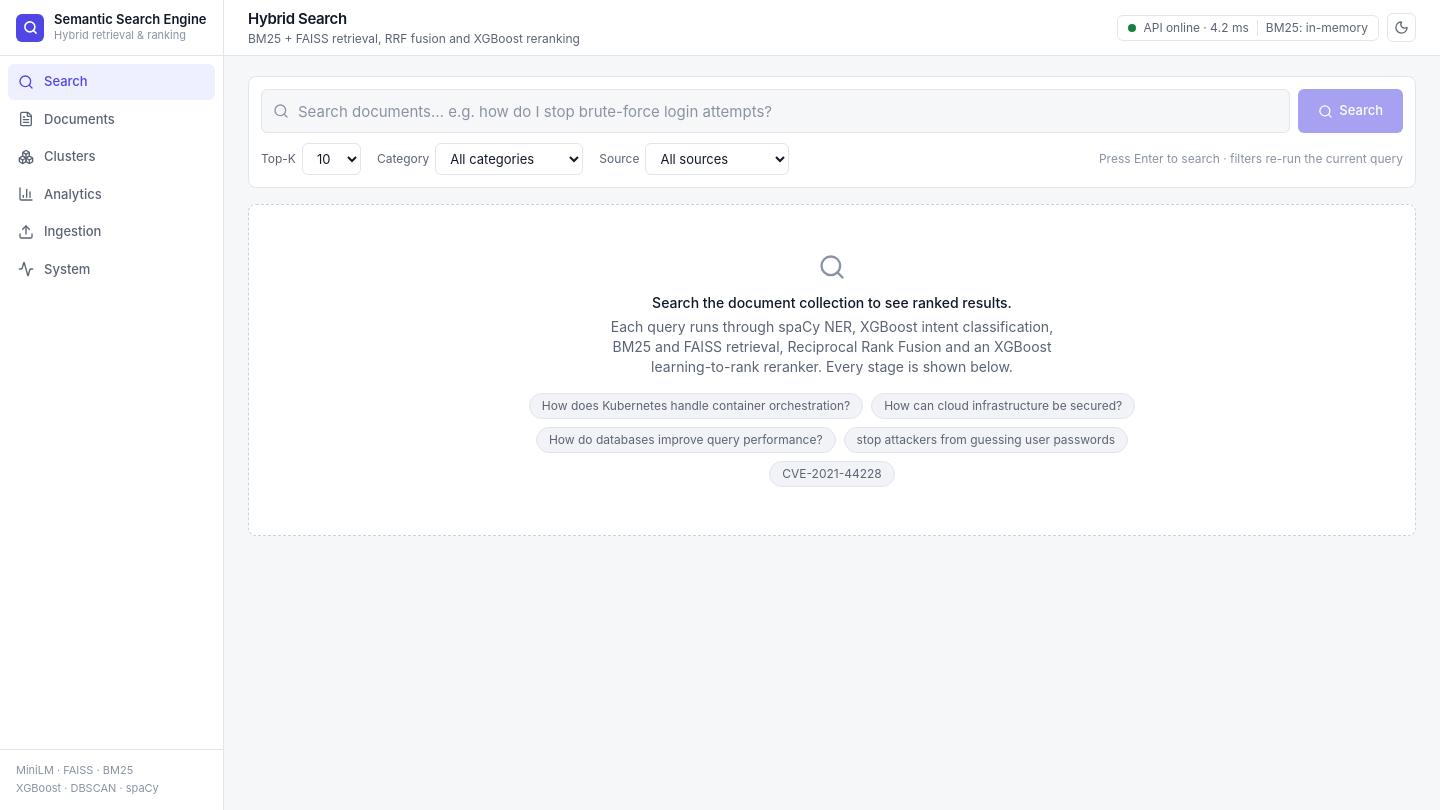
Test: Search page › switches between BM25, semantic and hybrid lists
The width and height of the screenshot is (1440, 810).
Type "security architecture for AWS" into the field named "Search query" at point(776, 111), box top-left (261, 89), bottom-right (1290, 133)
Then press Enter
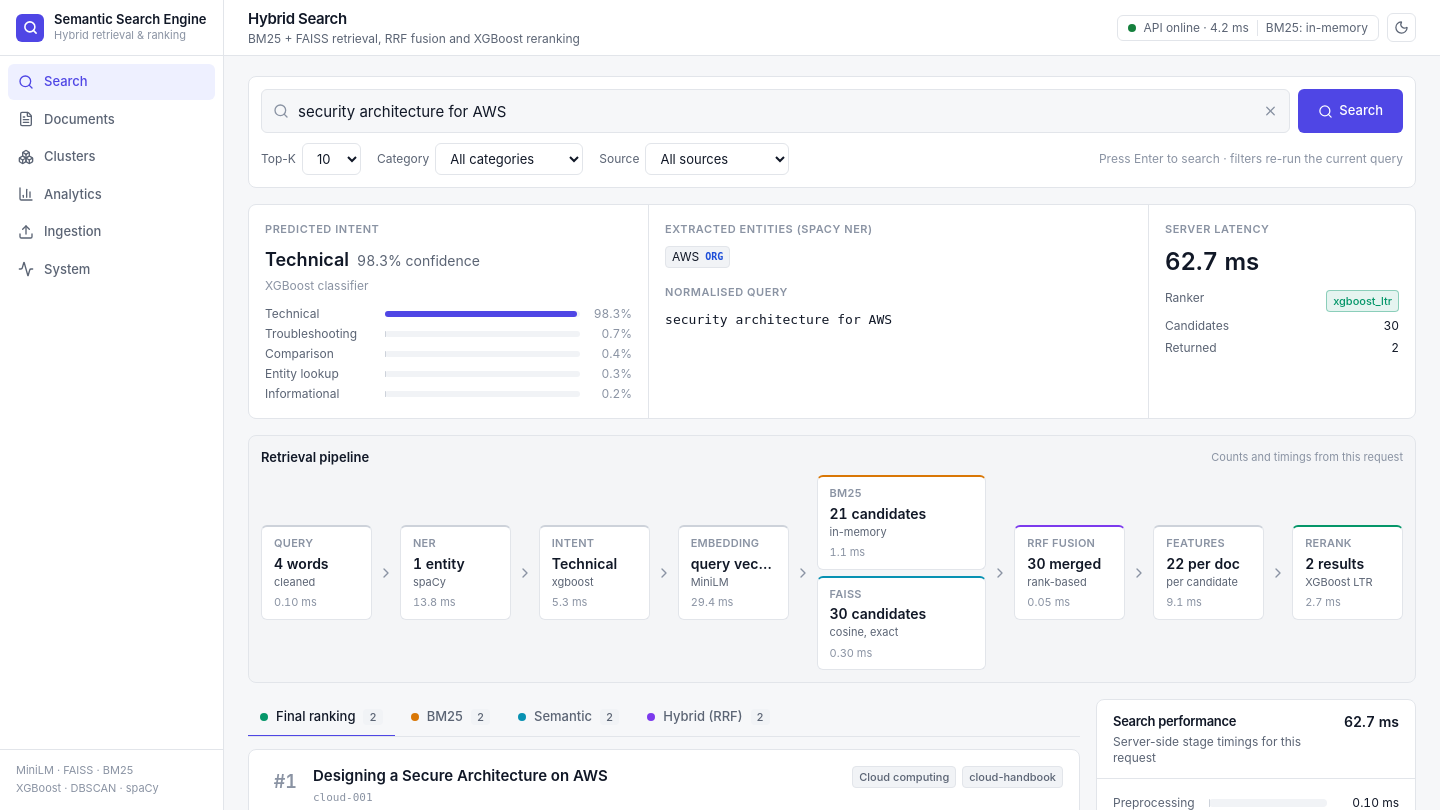
Click the tab "BM25 2" at point(450, 718), box top-left (399, 699), bottom-right (502, 736)
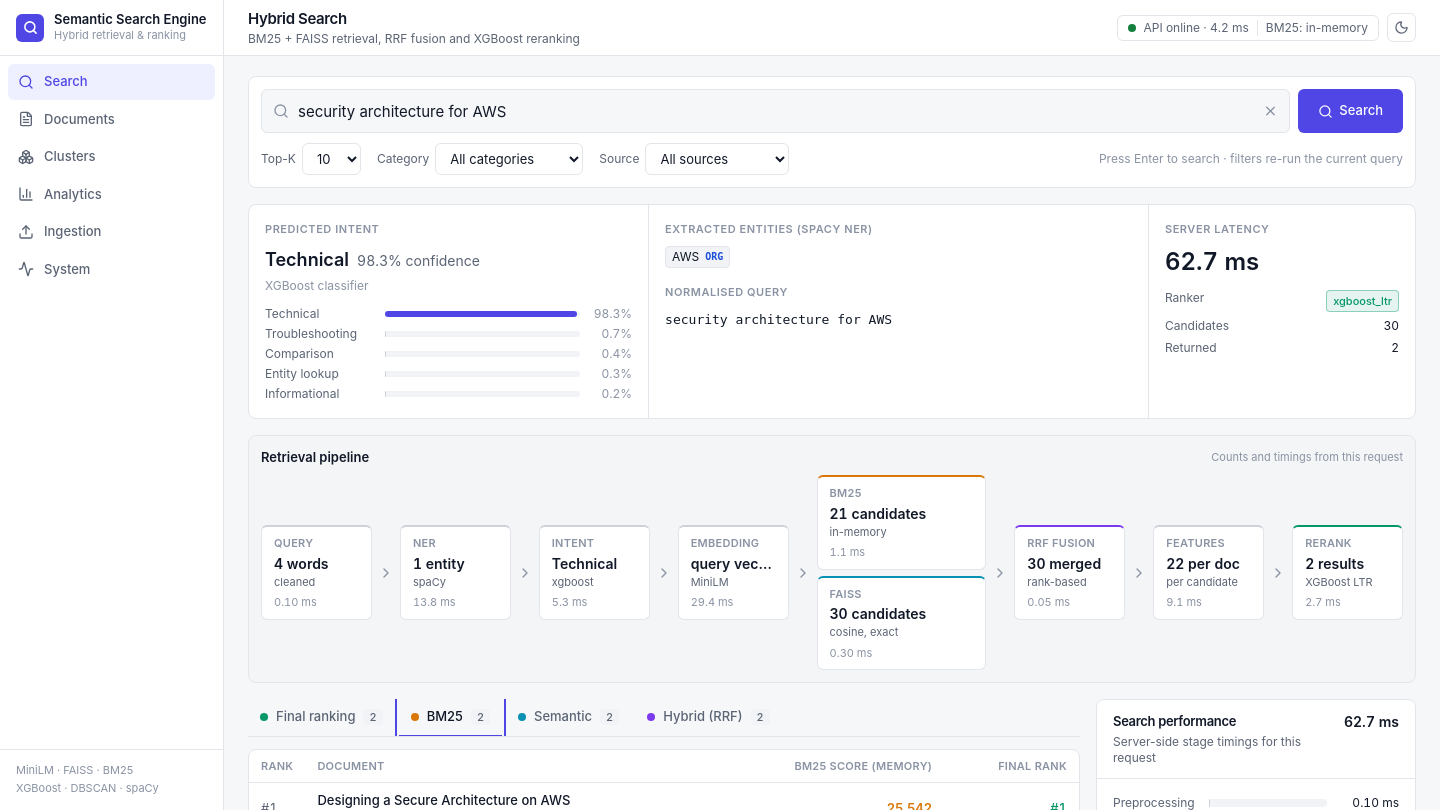
Result: the text "25.542" is shown at top-left (887, 800), bottom-right (932, 809)
Click the tab "Semantic 2" at point(569, 718), box top-left (506, 699), bottom-right (631, 736)
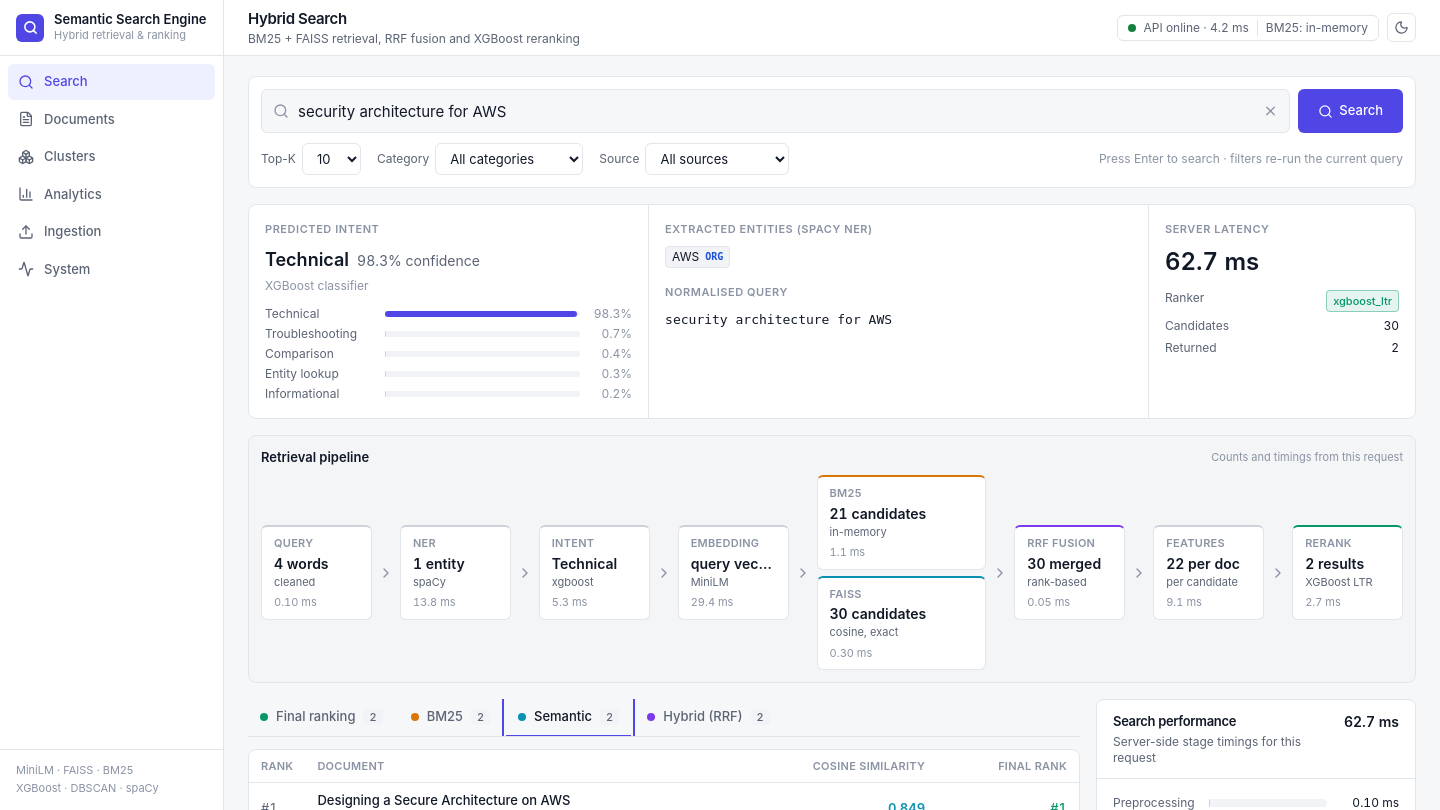
Click the tab "Hybrid (RRF) 2" at point(708, 718), box top-left (635, 699), bottom-right (782, 736)
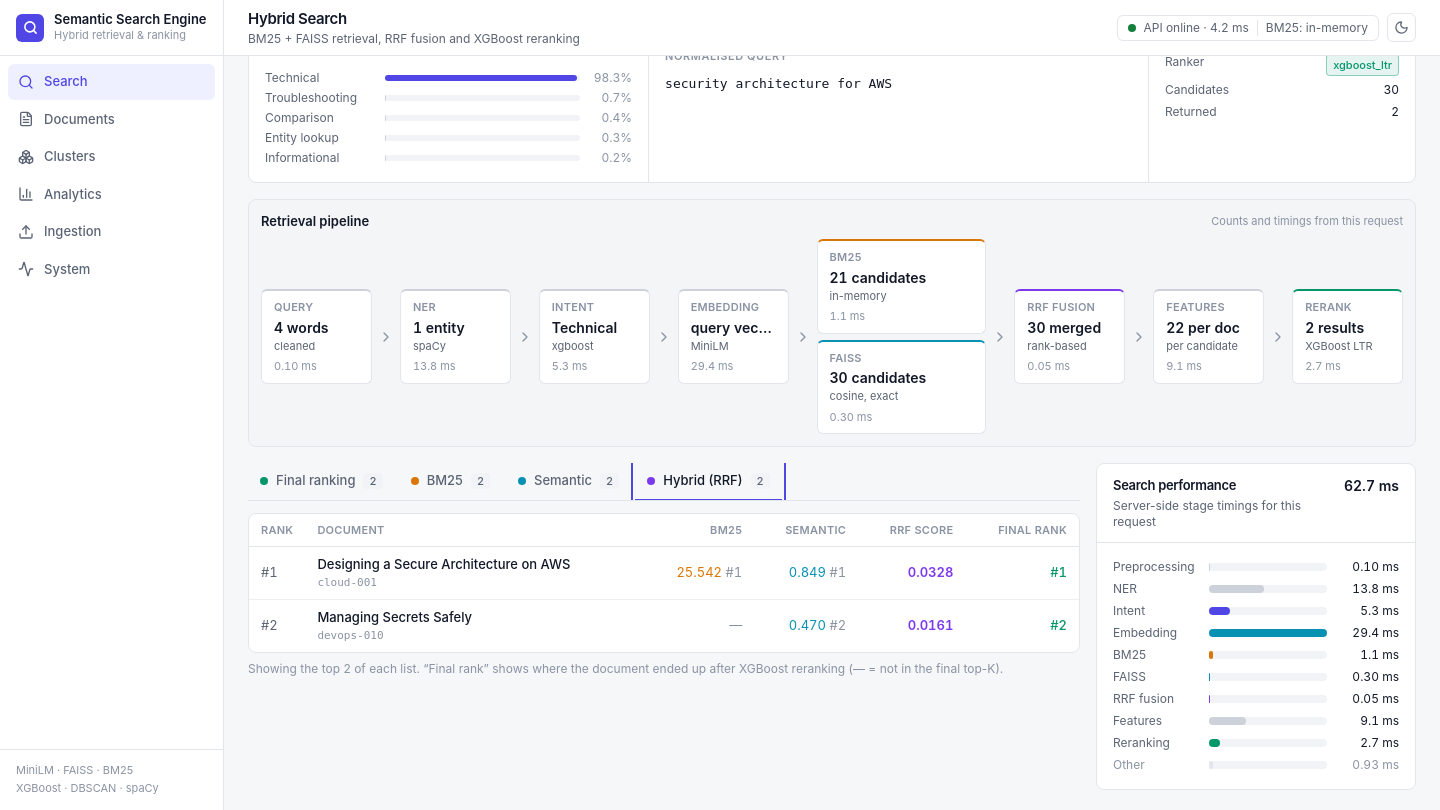
Result: the text "0.0161" is shown at top-left (858, 600), bottom-right (965, 652)
